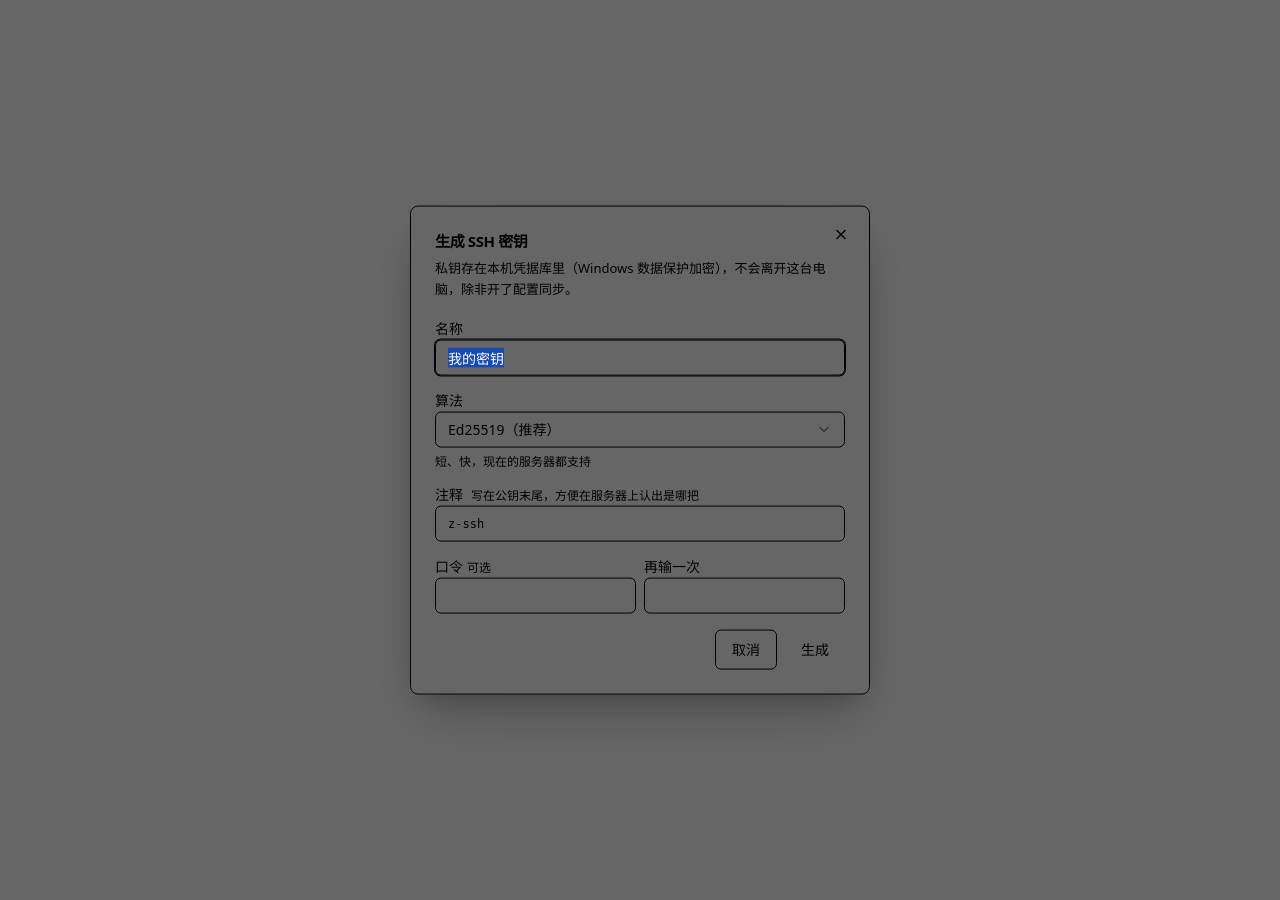
SSH 密钥对话框 › 生成密钥后显示公钥
Step 1. Click the button "生成" → click(815, 649), box [785, 629, 845, 669]
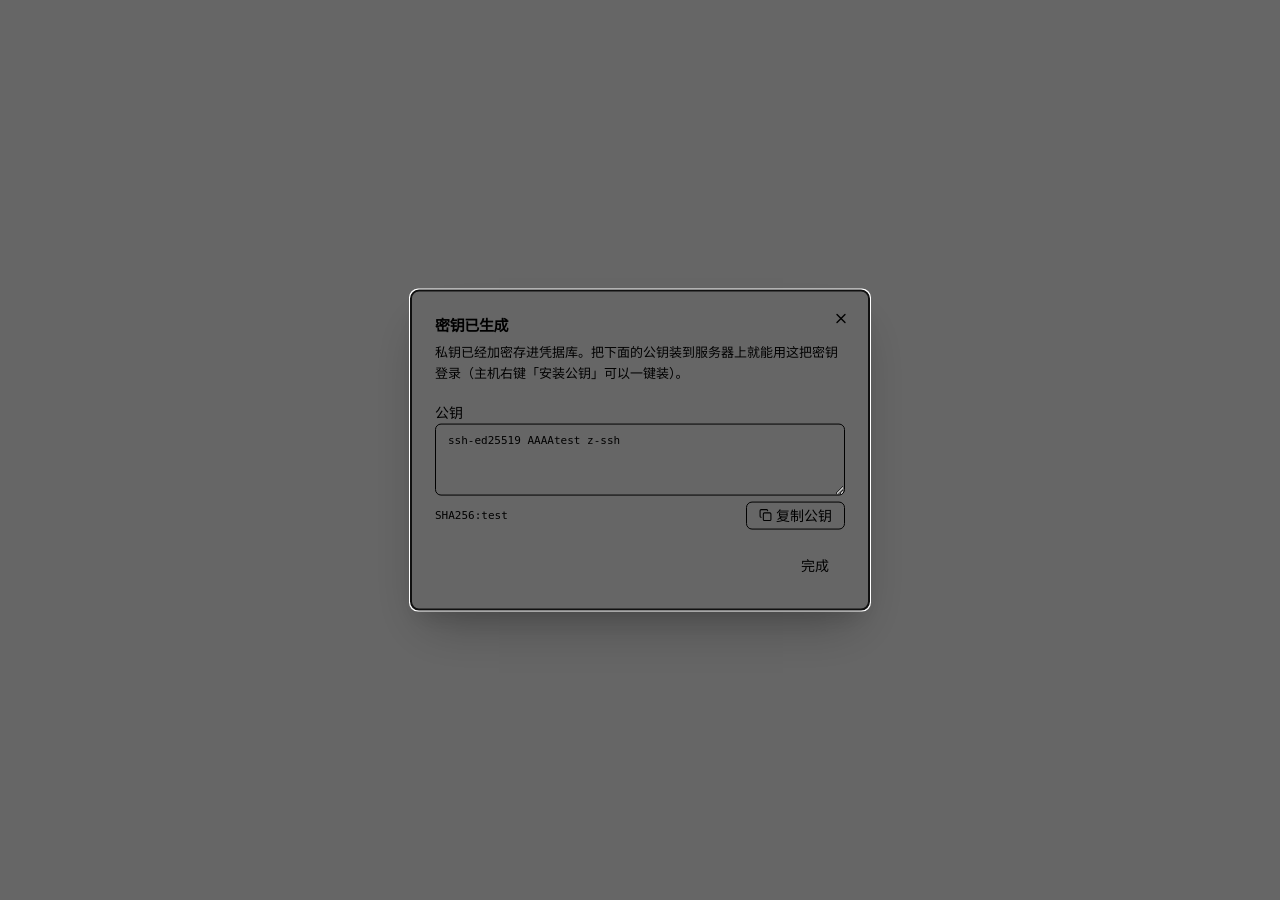
Check: the text box showing "ssh-ed25519 AAAAtest z-ssh" is shown, box [435, 423, 845, 495]
